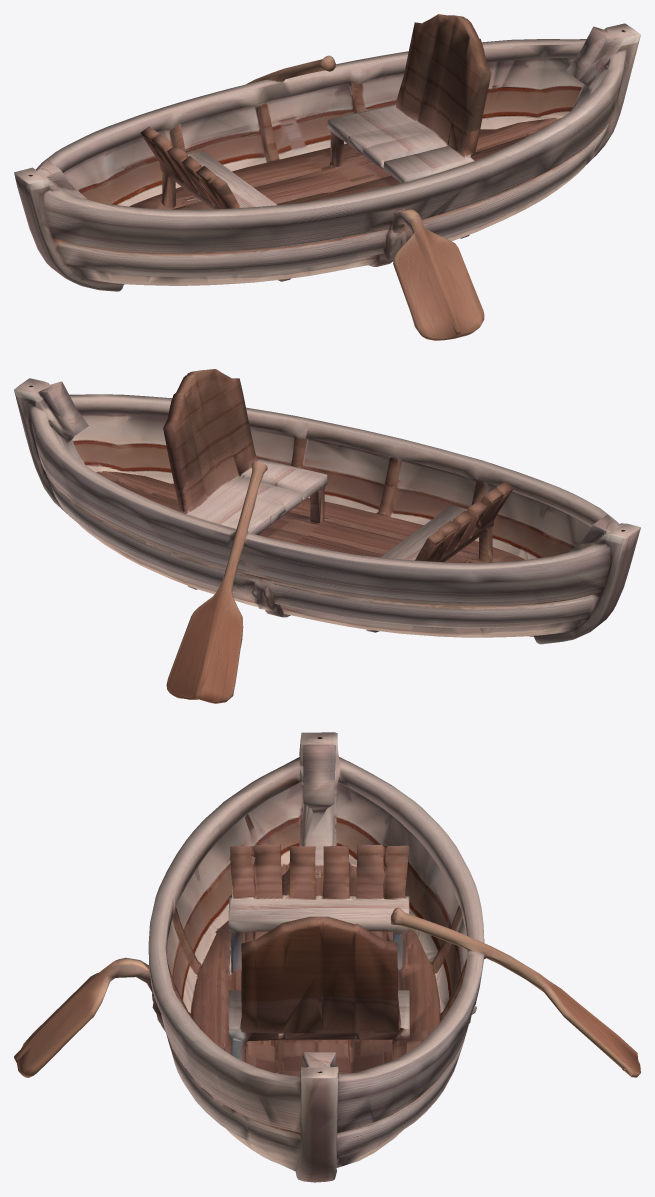
Rendered from rowboat.glb.
The picture shows the model from 3 angles, top to bottom: view 1: azimuth 30°, elevation 25°; view 2: azimuth 150°, elevation 25°; view 3: azimuth 270°, elevation 25°; orthographic projection. The views are drawn at different scales.
Bounding box in the file's own units: 1.91 × 0.599 × 1.47.
1 material, 1 textured.
